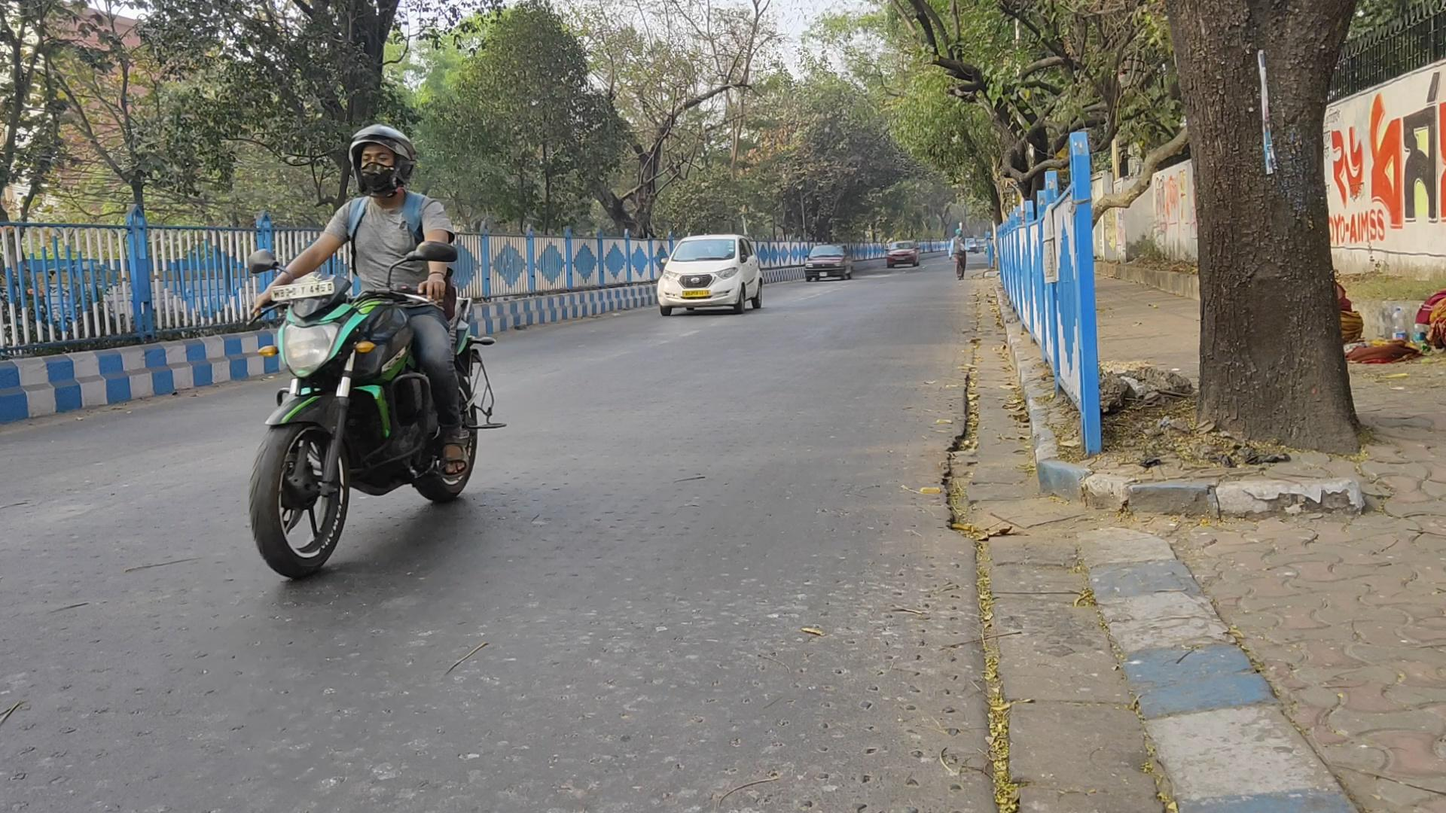bike: (246, 123, 505, 579)
car: (656, 233, 764, 317), (804, 242, 854, 285), (885, 239, 922, 269)
